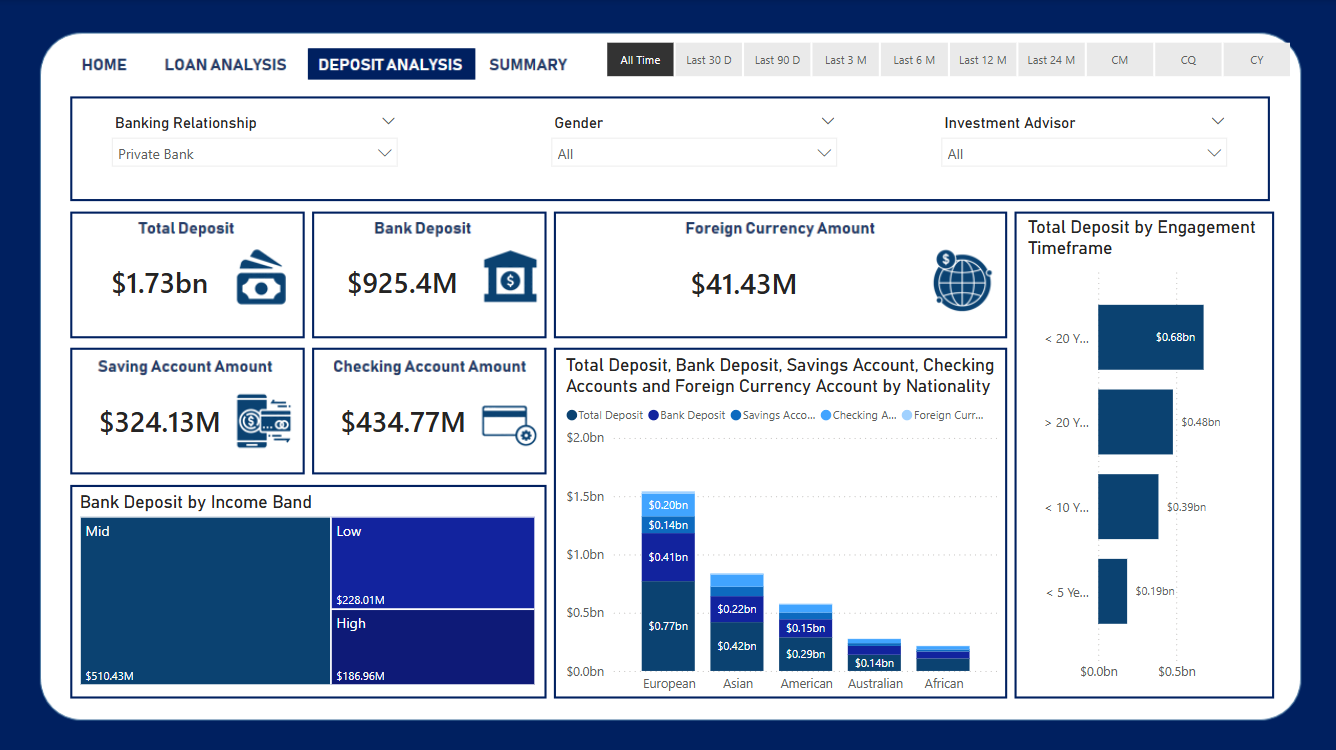

The dashboard page shown, as its layout file describes it:
{"tool":"powerbi","page":{"name":"Deposit Analysis","canvas":[1280,720],"ordinal":2},"visuals":[{"type":"card","fields":{"Values":["DAX Measures.Total Deposit"]},"box":[72.7,226.3,161.8,90.3],"z":0},{"type":"card","fields":{"Values":["DAX Measures.Bank Deposit"]},"box":[299,226.3,172.4,89.1],"z":1000},{"type":"card","fields":{"Values":["DAX Measures.Savings Account"]},"box":[72.7,360,161.8,89.1],"z":2000},{"type":"card","fields":{"Values":["DAX Measures.Checking Accounts"]},"box":[300.2,360,171.2,89.1],"z":3000},{"type":"slicer","fields":{"Values":["Banking Relationship.Banking Relationship"]},"box":[98.5,105.2,292.9,75.7],"z":4000},{"type":"slicer","fields":{"Values":["Gender.Gender"]},"box":[518.9,105.2,292.9,75.7],"z":5000},{"type":"slicer","fields":{"Values":["Investment Advisor.Investment Advisor"]},"box":[891.3,105.2,292.9,75.7],"z":6000},{"type":"card","fields":{"Values":["DAX Measures.Foreign Currency Account"]},"box":[537.1,227.5,349.4,89.1],"z":7000},{"type":"treemap","fields":{"Group":["Clients - Banking.Income Band"],"Values":["DAX Measures.Bank Deposit"]},"box":[72.7,470.2,444.4,190],"z":8000},{"type":"columnChart","fields":{"Category":["Clients - Banking.Nationality"],"Y":["DAX Measures.Total Deposit","DAX Measures.Bank Deposit","DAX Measures.Savings Account","DAX Measures.Checking Accounts","DAX Measures.Foreign Currency Account"]},"box":[537.1,338.9,423.3,331.9],"z":9000},{"type":"clusteredBarChart","fields":{"Category":["Clients - Banking.Engagement Timeframe"],"Y":["DAX Measures.Total Deposit"]},"box":[978,207.6,234.5,452.6],"z":10000},{"type":"slicer","fields":{"Values":["Period.Name"]},"box":[555.2,34.6,702.1,46.6],"z":11000},{"type":"actionButton","box":[72.8,44.2,58.5,31],"z":12000},{"type":"actionButton","box":[160,44.2,119.4,31],"z":13000},{"type":"actionButton","box":[471.6,44.2,83.6,31],"z":14000}]}

Visuals, with their boxes in screenshot pixels (x1, y1, x2, y2), scaled from the page's 1280x720 canvas onto the 1336x750 screenshot:
card - DAX Measures.Total Deposit: region(76, 236, 245, 330)
card - DAX Measures.Bank Deposit: region(312, 236, 492, 329)
card - DAX Measures.Savings Account: region(76, 375, 245, 468)
card - DAX Measures.Checking Accounts: region(313, 375, 492, 468)
slicer - Banking Relationship.Banking Relationship: region(103, 110, 409, 188)
slicer - Gender.Gender: region(542, 110, 847, 188)
slicer - Investment Advisor.Investment Advisor: region(930, 110, 1236, 188)
card - DAX Measures.Foreign Currency Account: region(561, 237, 925, 330)
treemap - Clients - Banking.Income Band x DAX Measures.Bank Deposit: region(76, 490, 540, 688)
columnChart - Clients - Banking.Nationality x DAX Measures.Total Deposit: region(561, 353, 1002, 699)
clusteredBarChart - Clients - Banking.Engagement Timeframe x DAX Measures.Total Deposit: region(1021, 216, 1266, 688)
slicer - Period.Name: region(579, 36, 1312, 85)
actionButton: region(76, 46, 137, 78)
actionButton: region(167, 46, 292, 78)
actionButton: region(492, 46, 579, 78)
